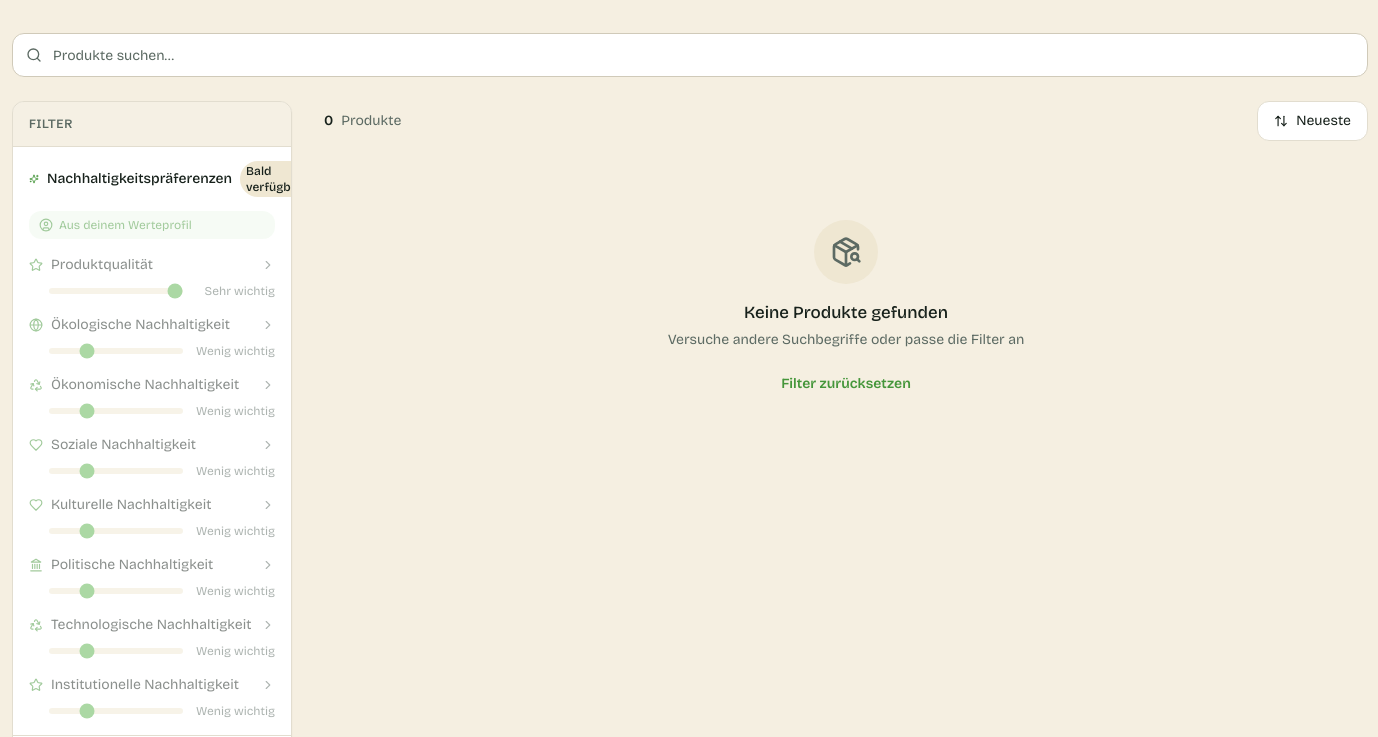
Scenario: SustainableShop — Filter zurücksetzen › clears the badge and the reset offer once nothing is active any more
(page scrolled)
Click the button "Filter zurücksetzen": x=846, y=384 x1=781 y1=366 x2=911 y2=402
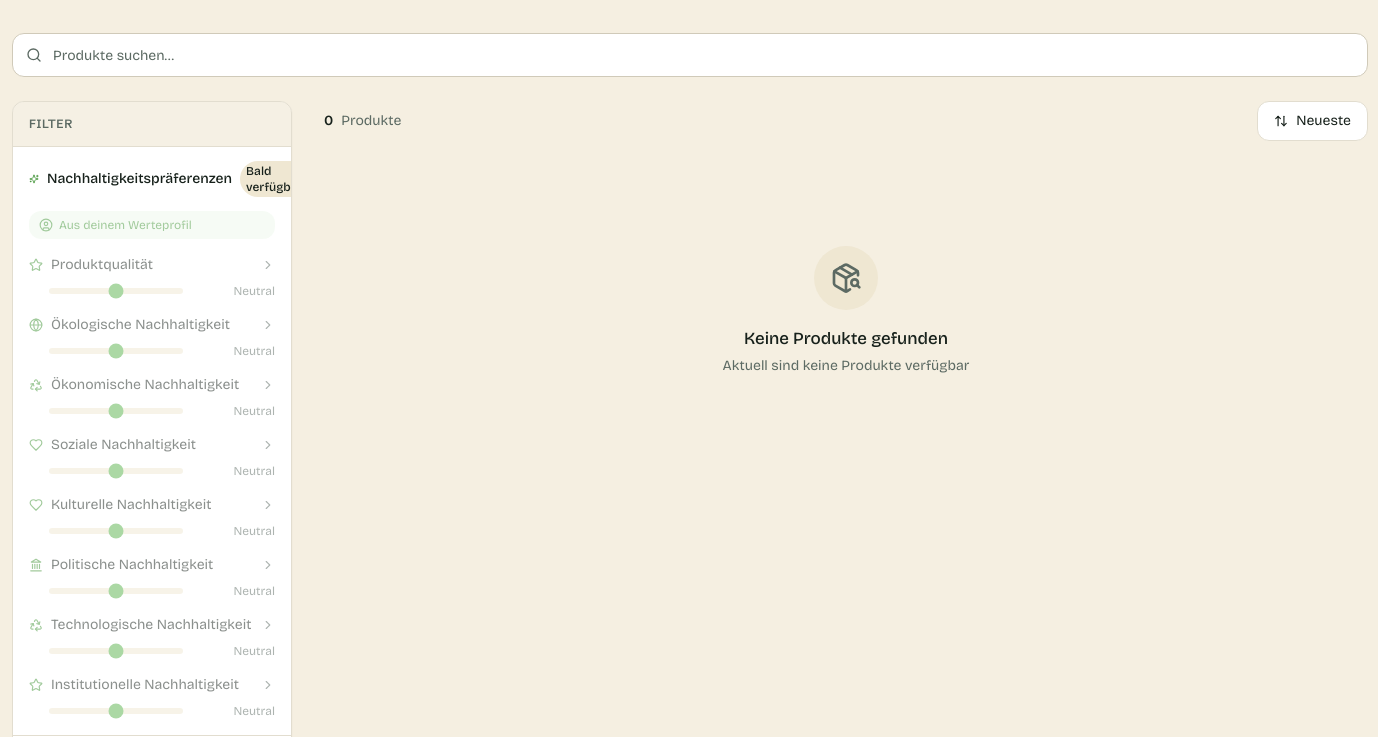
expect the button "Filter zurücksetzen" is gone: met
expect the text "Aktuell sind keine Produkte verfügbar" is shown: met, box x1=723 y1=356 x2=969 y2=376
